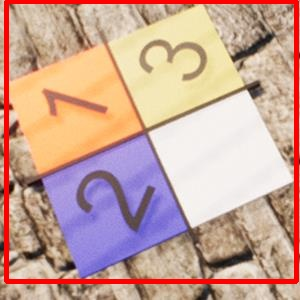nfpa: (6, 1, 296, 281)
